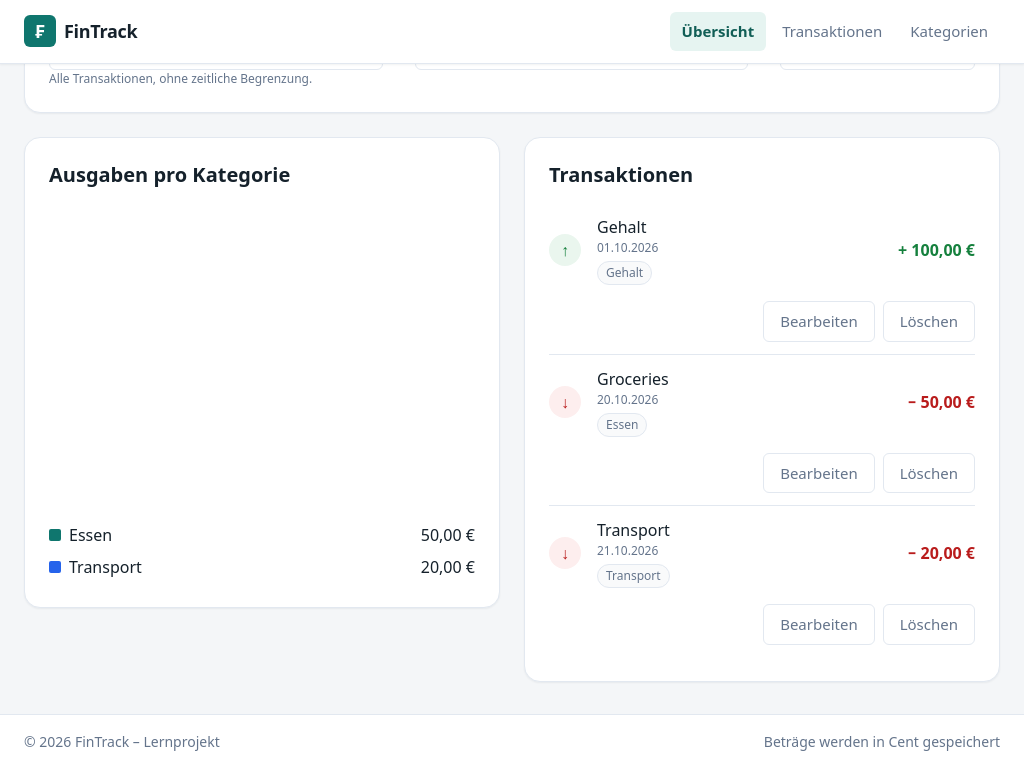
Scenario: shared transaction filters › updates note, amount, date and category in place and recalculates the chart
The image size is (1024, 768).
(page scrolled)
Click the button with aria-label "Groceries vom 20.10.2026, 50,00 € bearbeiten": coordinates (819, 473) [763, 452, 875, 493]
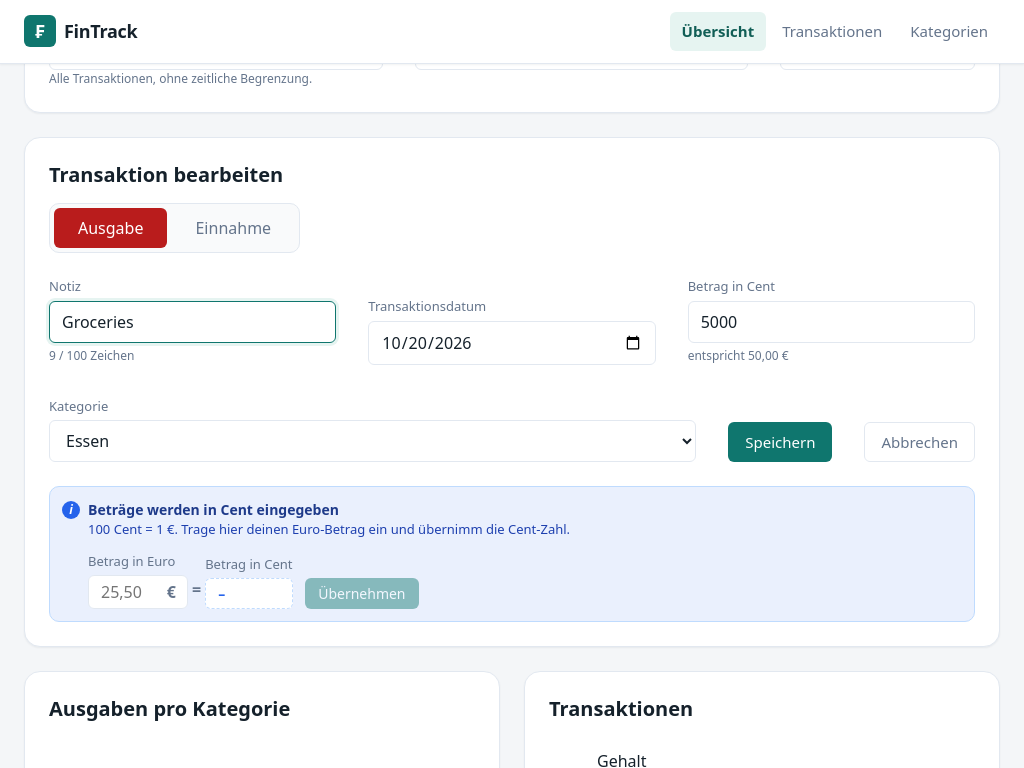
Replace the text in the field labelled "Notiz" with "Train ticket": coordinates (193, 322) [49, 300, 336, 342]
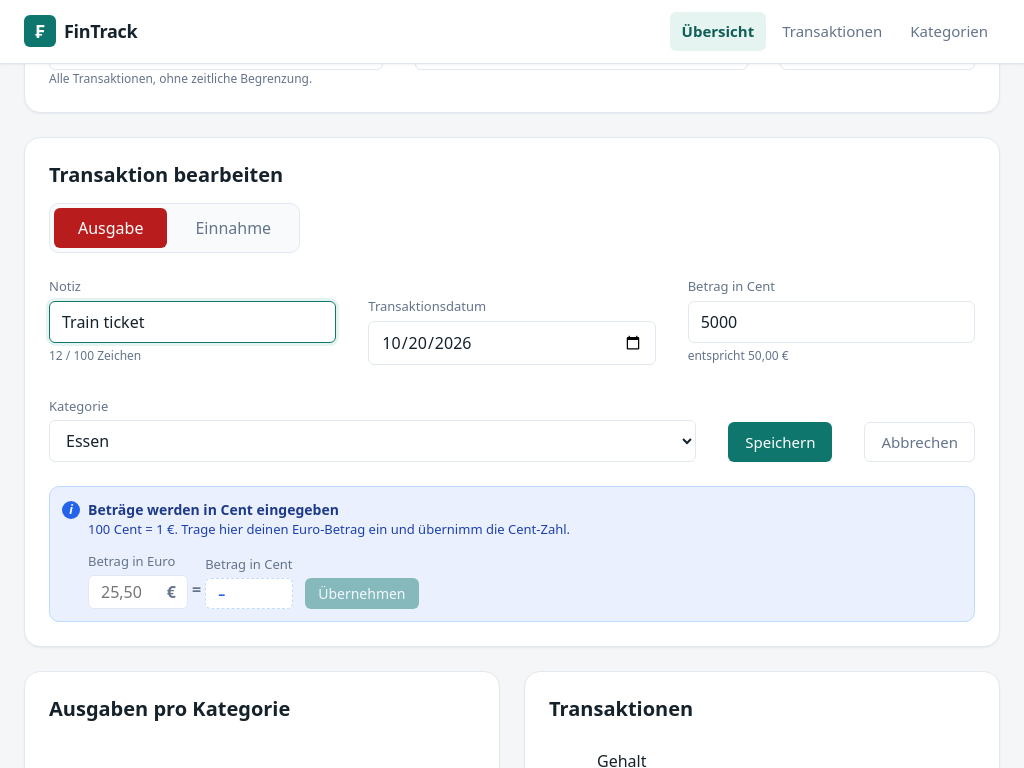
Replace the text in the field labelled "Betrag in Cent" with "1500": coordinates (831, 322) [688, 300, 975, 342]
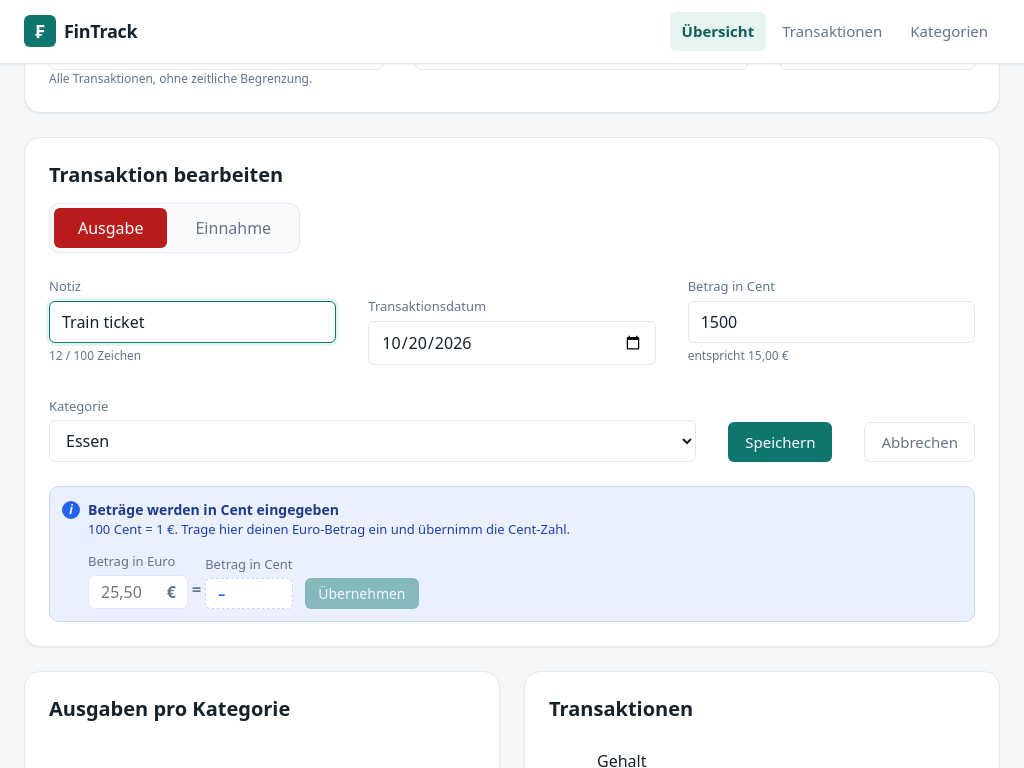
In the date field labelled "Transaktionsdatum": coordinates (512, 342) [368, 320, 656, 364], type "2026-10-22"
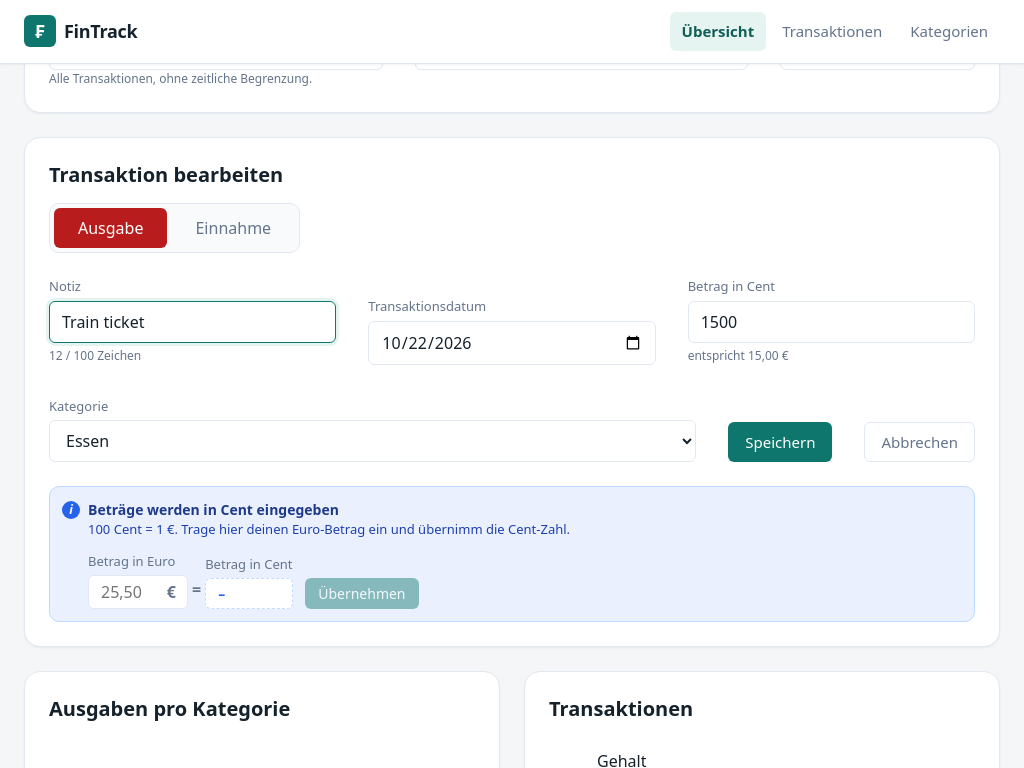
Select "Transport" in the dropdown labelled "Kategorie": coordinates (373, 441) [49, 420, 696, 462]
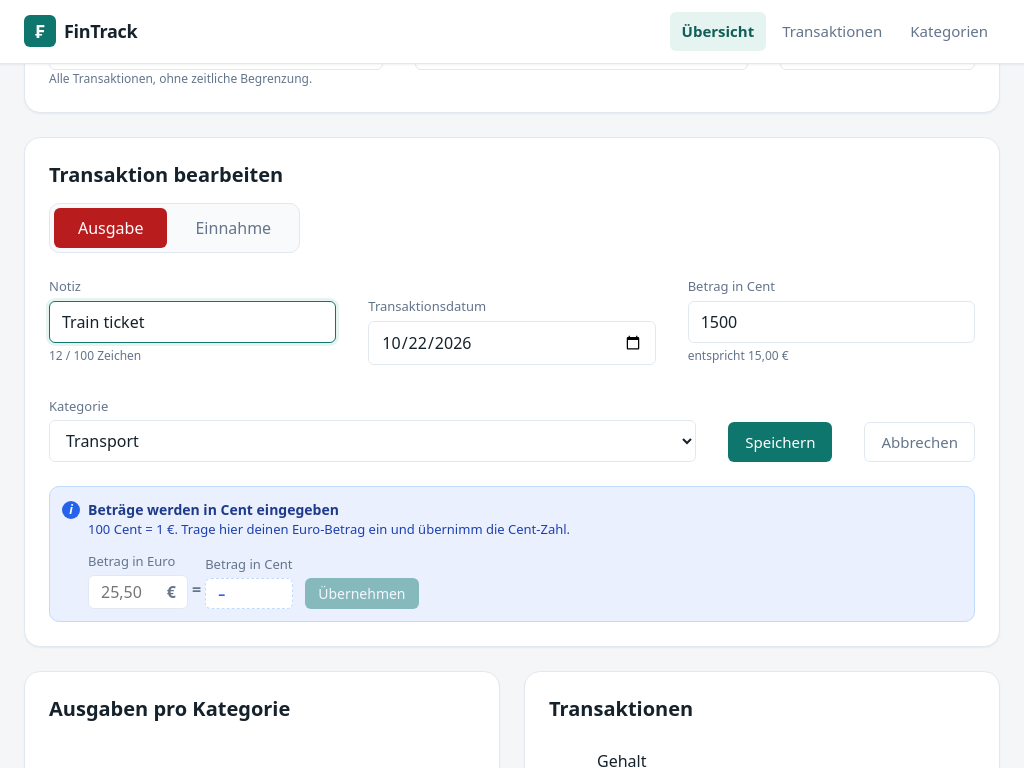
Submit the form named "Transaktion bearbeiten", box [49, 277, 975, 462]
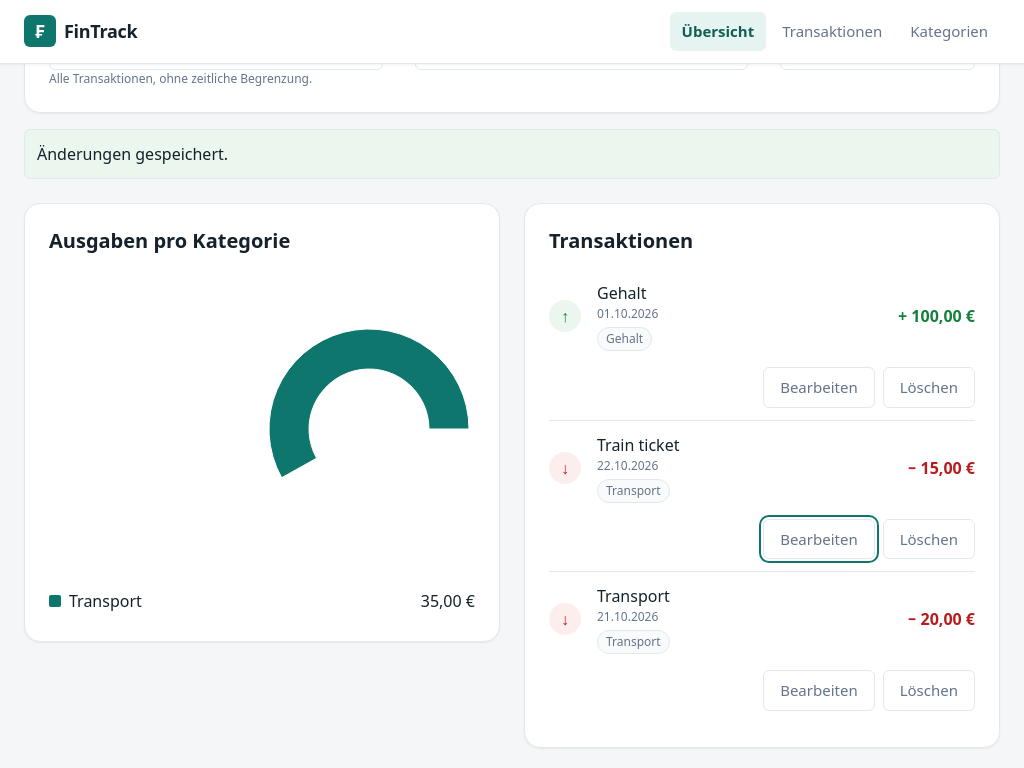
Expected: the message reads "Änderungen gespeichert.", [37, 143, 228, 165]
Expected: the button with aria-label "Train ticket vom 22.10.2026, 15,00 € bearbeiten" is shown, [763, 518, 875, 559]
Expected: the text "35,00 €" is shown, [421, 589, 475, 613]
